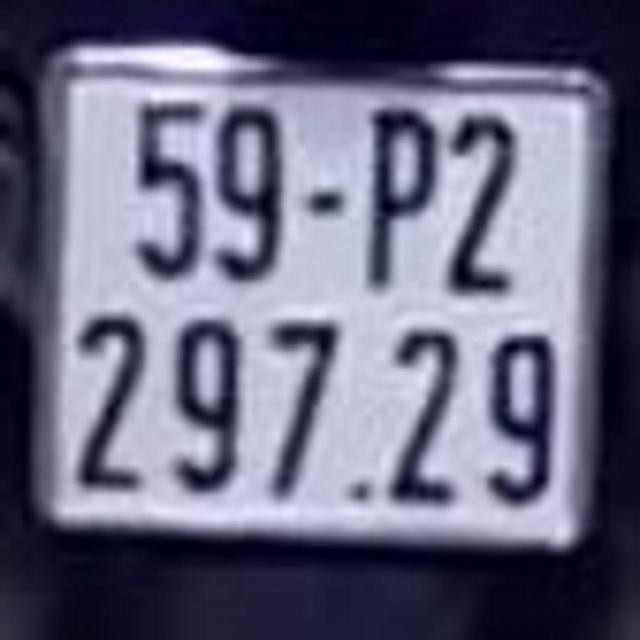2: (377, 304, 471, 514), (72, 286, 150, 496), (446, 88, 524, 297)
5: (114, 64, 209, 279)
7: (262, 292, 342, 506)
9: (481, 303, 572, 522), (203, 56, 285, 290), (168, 299, 251, 511)
P: (358, 88, 438, 294)
